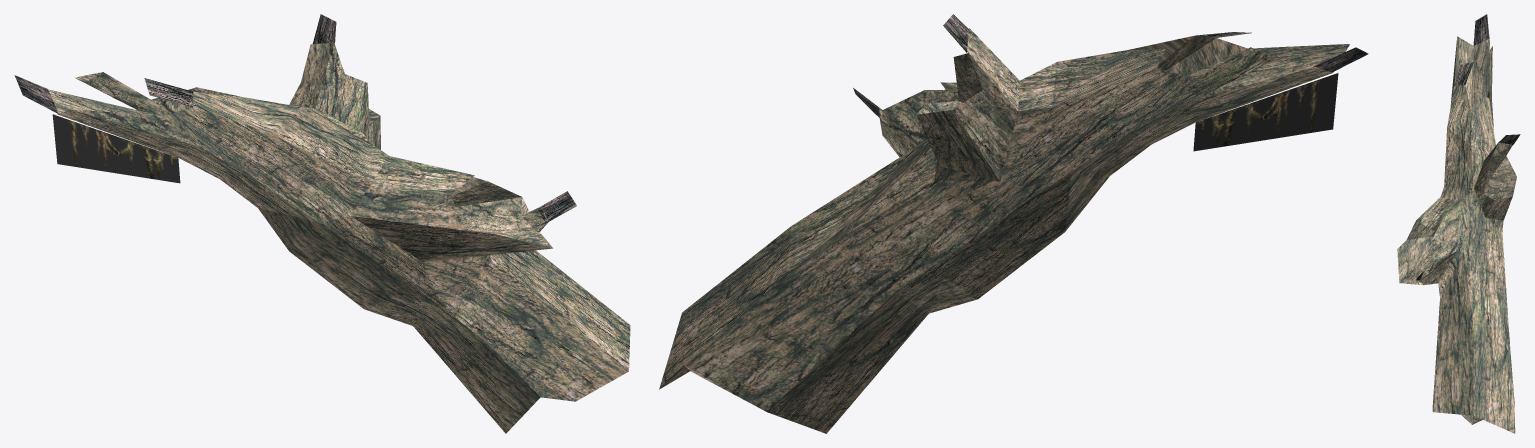
The model's file is poi_all_lair_dead_log_small_l1.fbx.
3 views of the same model, side by side, from view 1: azimuth 30°, elevation 25°; view 2: azimuth 150°, elevation 25°; view 3: azimuth 270°, elevation 25° (orthographic). The views are drawn at different scales.
Parts seen in each view (by area): view 1: mesh_node; view 2: mesh_node; view 3: mesh_node.
Part boxes in pixels (left/top/right/bottom): mesh_node: left=14, top=14, right=630, bottom=433; mesh_node: left=659, top=14, right=1368, bottom=433; mesh_node: left=1397, top=14, right=1520, bottom=433.
Bounding box in the file's own units: 7.08 × 5.2 × 2.12.
